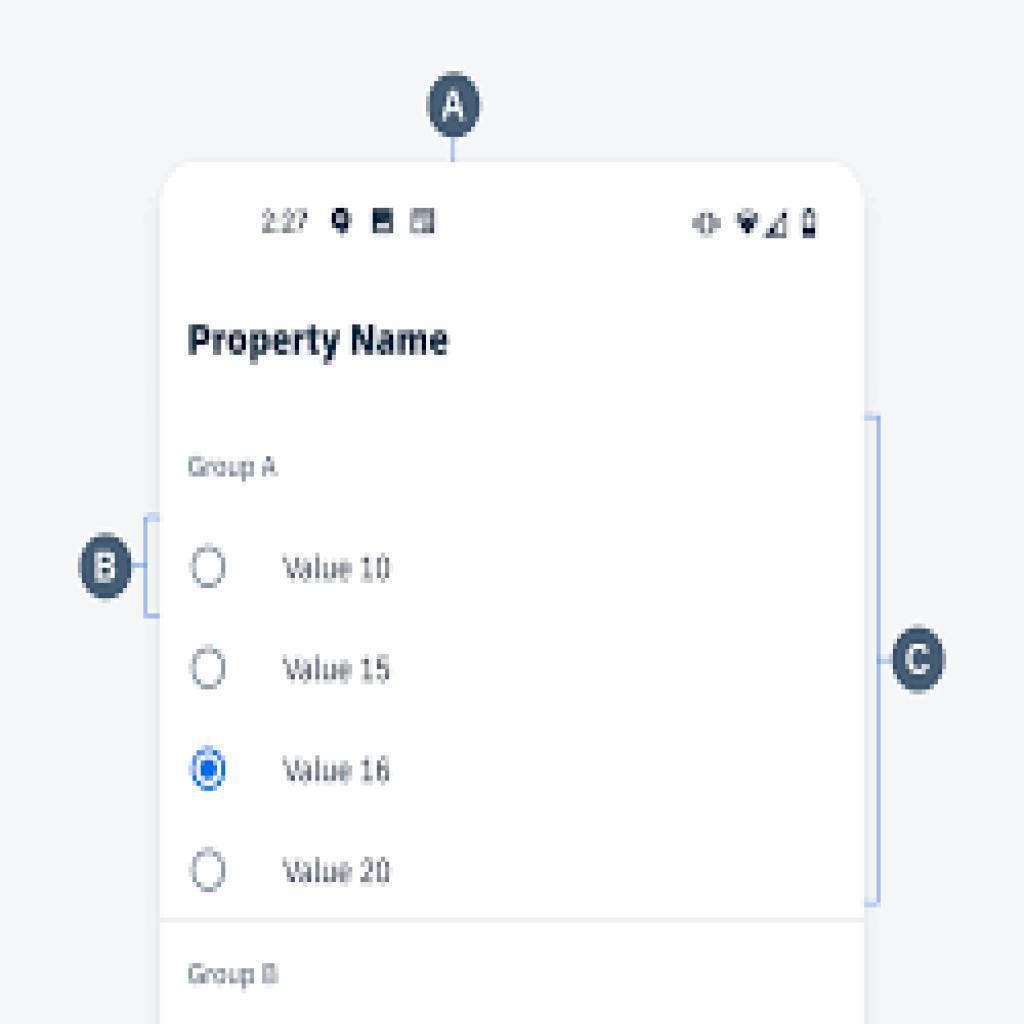radio: (188, 742, 230, 796), (189, 539, 229, 593), (189, 847, 232, 897), (190, 645, 231, 695)
